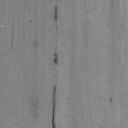slag inclusion: (52, 84, 57, 128), (53, 4, 59, 21), (53, 51, 58, 64)
